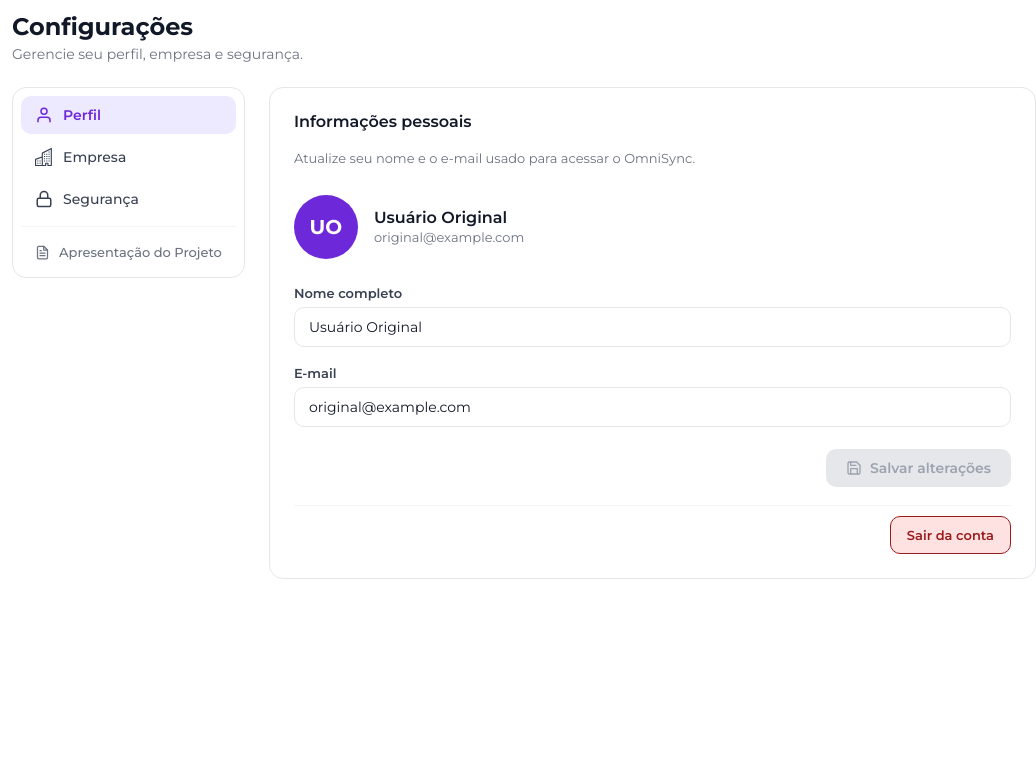
Test: SettingsScreen › loads and updates company data through the API for SETTINGS_MANAGE
Click the button "Empresa" at [128, 157], box [21,138,236,176]
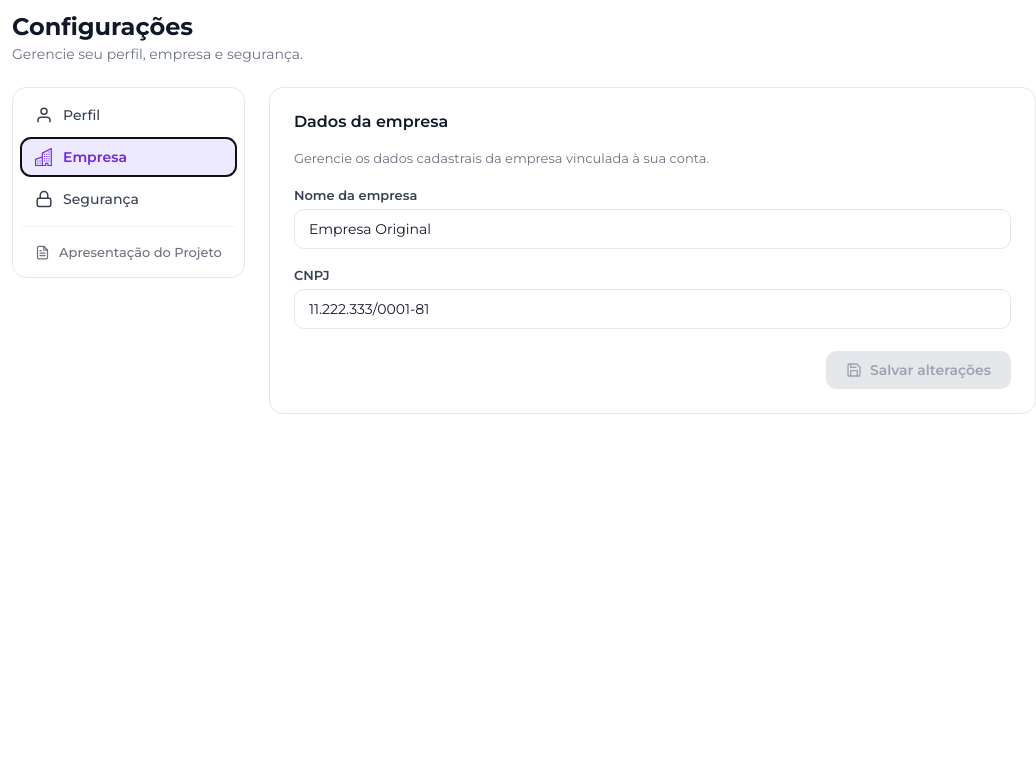
Result: the field showing "Empresa Original" is shown
Result: the field showing "11.222.333/0001-81" is shown at [294,288,1011,328]
Replace the text in the field labelled "Nome da empresa" with "Empresa Atualizada" at [652, 228], box [294,208,1011,248]
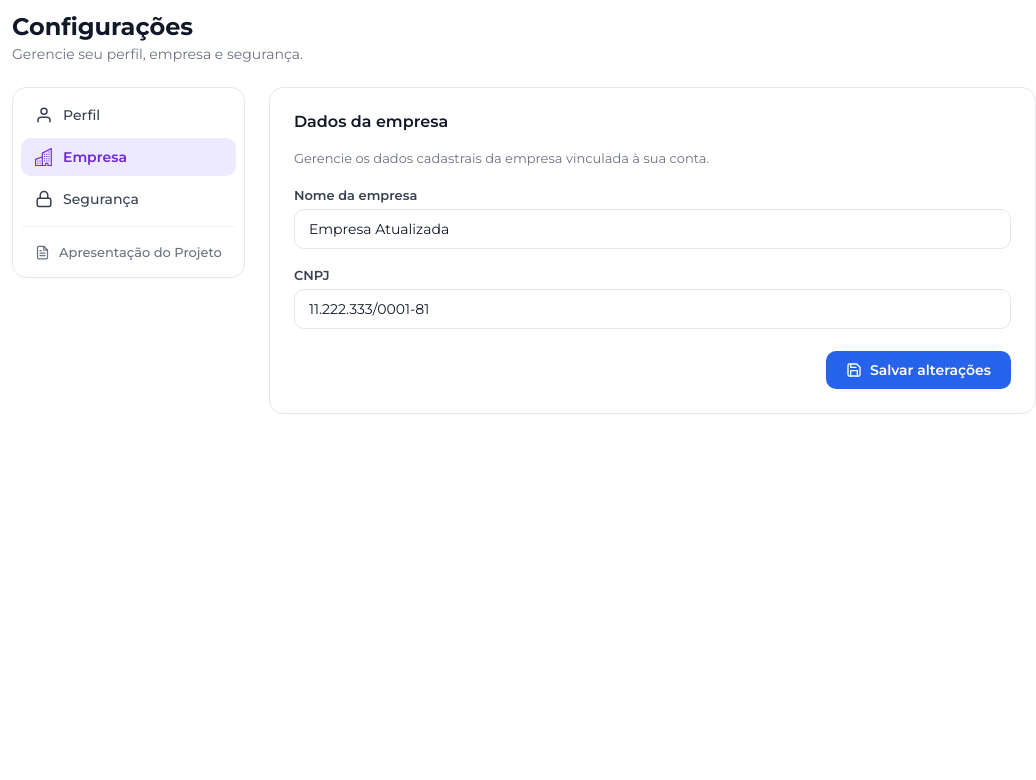
Replace the text in the field labelled "CNPJ" with "11444777000161" at [652, 308], box [294,288,1011,328]
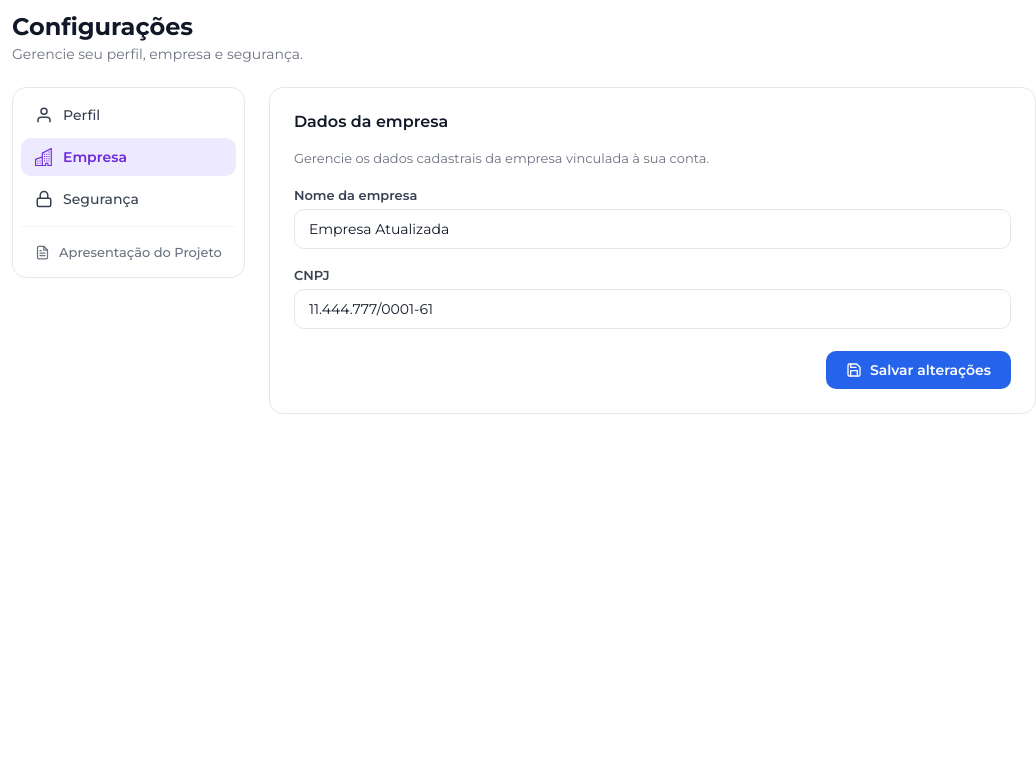
Click the button "Salvar alterações" at [918, 370], box [826,350,1011,388]
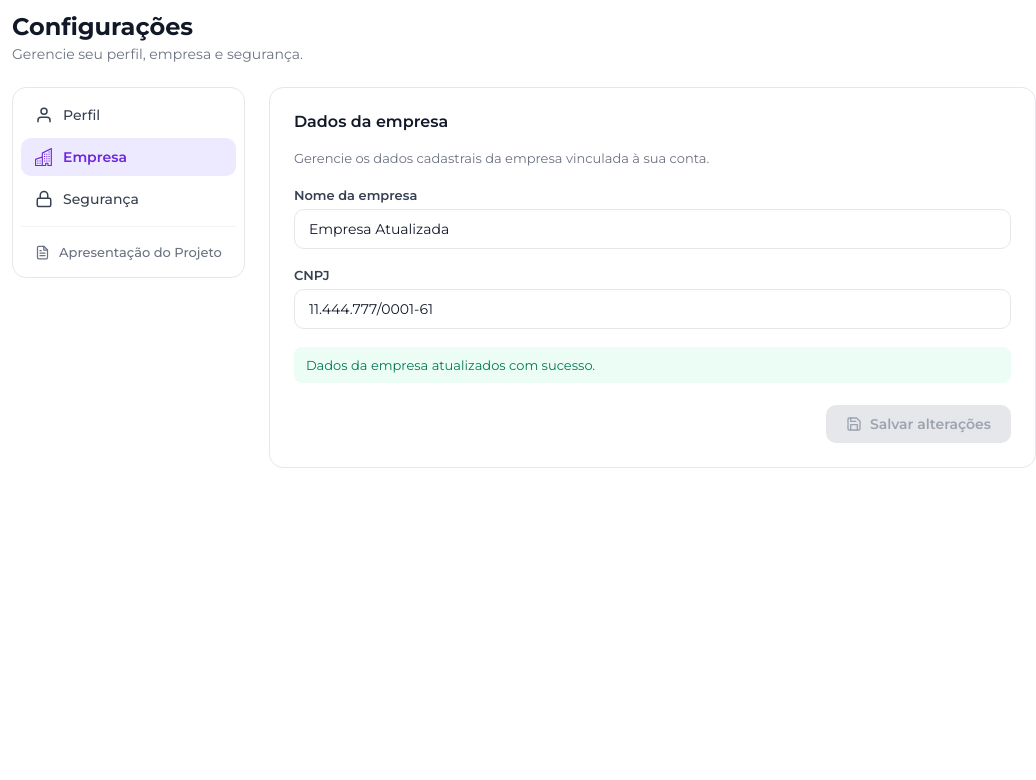
Result: the message reads "Dados da empresa atualizados com sucesso." at [306,356,595,372]
